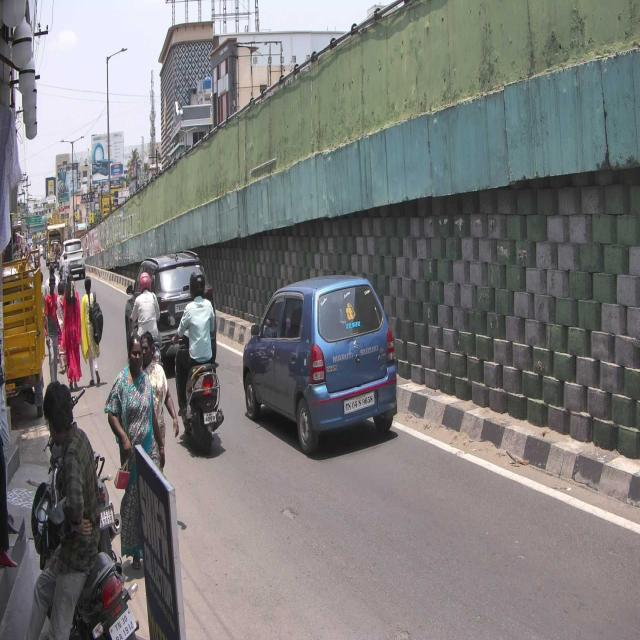single_rider: (168, 264, 226, 456)
